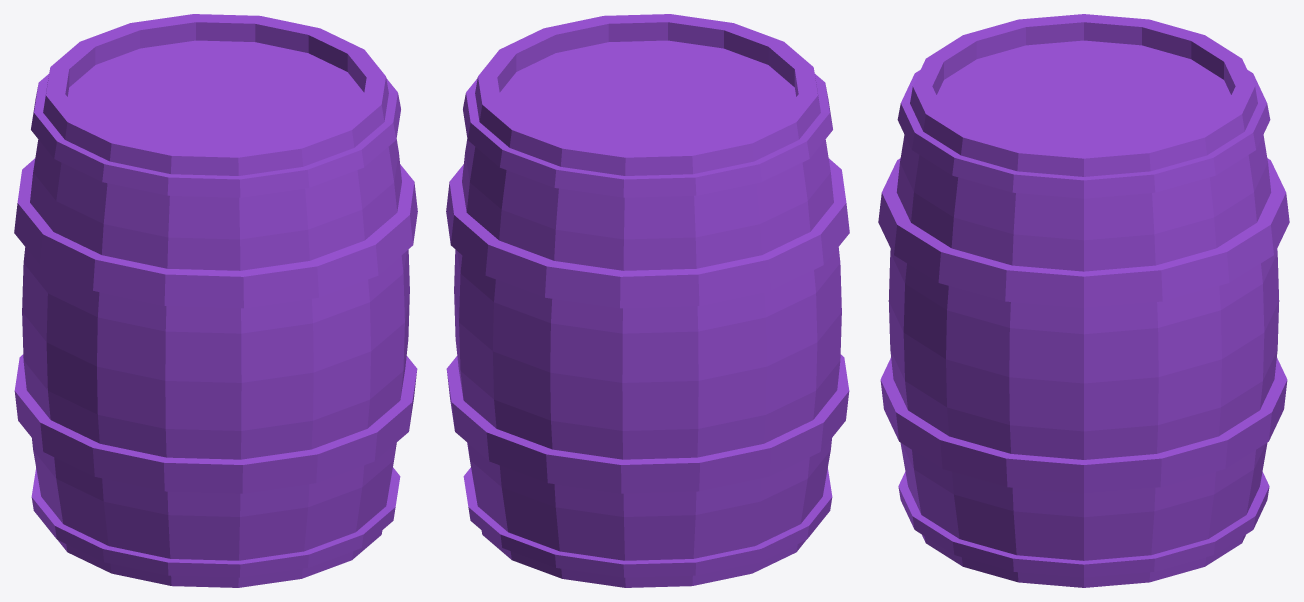
Rendered from beczka.fbx.
3 views of the same model, side by side, from view 1: azimuth 30°, elevation 25°; view 2: azimuth 150°, elevation 25°; view 3: azimuth 270°, elevation 25° (orthographic).
Parts seen in each view (by area): view 1: beczka bez tekstur.009; view 2: beczka bez tekstur.009; view 3: beczka bez tekstur.009.
Part boxes in pixels (box(x1,y1,x2,y2)): beczka bez tekstur.009: box(14, 14, 417, 587); beczka bez tekstur.009: box(446, 14, 849, 587); beczka bez tekstur.009: box(878, 14, 1289, 587).
Bounding box in the file's own units: 215 × 252 × 218.
